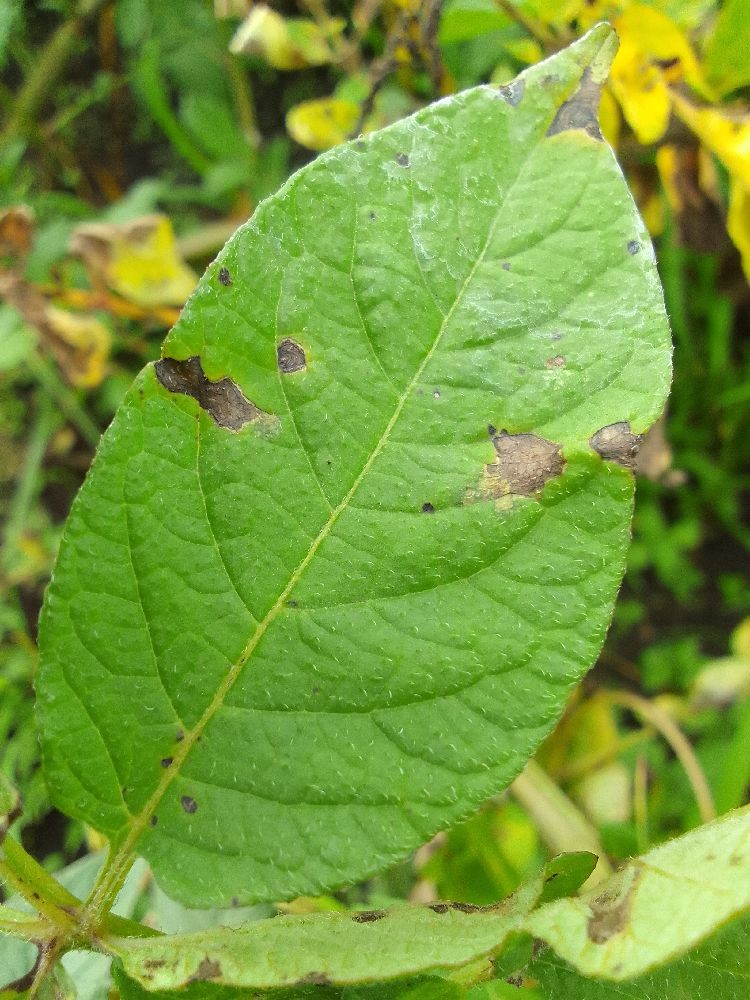late_blight: (502, 470, 750, 836), (0, 0, 219, 408), (539, 0, 750, 409), (192, 0, 477, 198)
